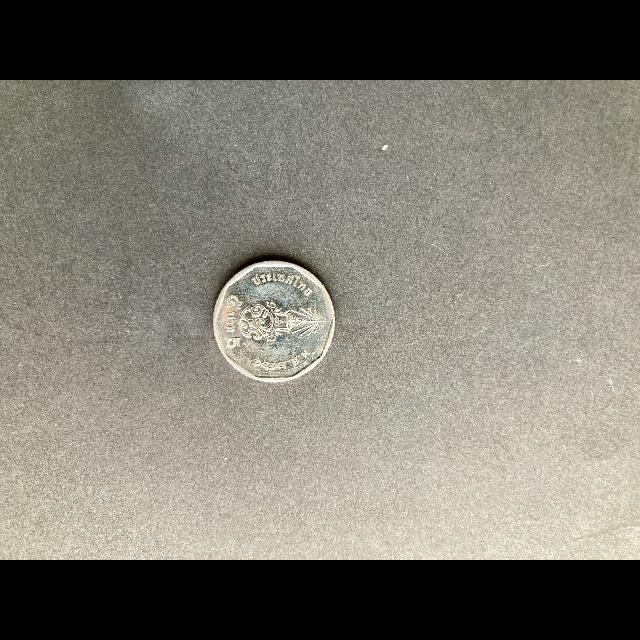5 Bath: (213, 257, 340, 386)
